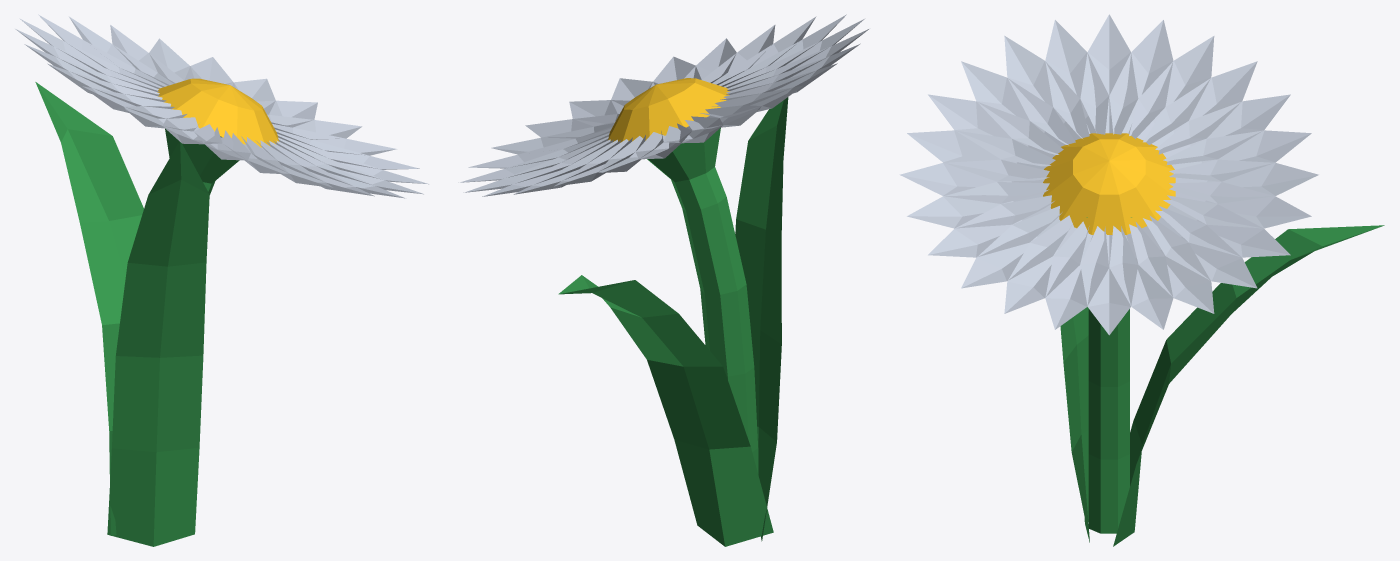
3 views of the same model, side by side, from view 1: azimuth 30°, elevation 25°; view 2: azimuth 150°, elevation 25°; view 3: azimuth 270°, elevation 25° (orthographic). The views are drawn at different scales.
Parts seen in each view (by area): view 1: plane (×26), sphere, tube; view 2: plane (×26), cylinder, sphere, tube; view 3: plane (×26), sphere, cylinder.
Part boxes in pixels (bbox=[...]): plane (×26): bbox=[15, 14, 429, 546]; sphere: bbox=[157, 78, 279, 147]; tube: bbox=[165, 128, 239, 183]; plane (×26): bbox=[458, 14, 868, 546]; cylinder: bbox=[671, 167, 758, 473]; sphere: bbox=[608, 78, 729, 142]; tube: bbox=[647, 128, 720, 182]; plane (×26): bbox=[899, 14, 1384, 546]; sphere: bbox=[1043, 133, 1175, 234]; cylinder: bbox=[1088, 309, 1129, 533].
Size of the model in its own units: 0.5749 by 0.7868 by 0.7345.
Materials: 1 (1 with a texture image).
